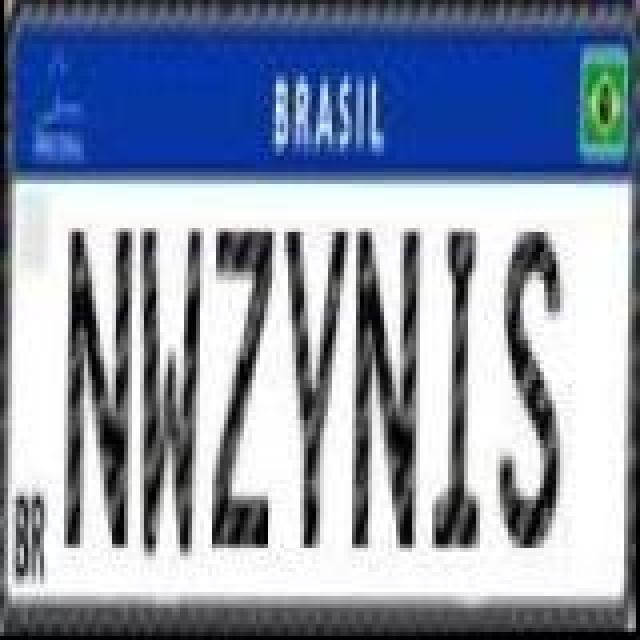I: (430, 226, 486, 550)
N: (62, 224, 134, 548), (352, 228, 420, 552)
S: (496, 222, 564, 558)
W: (132, 228, 200, 564)
Y: (278, 226, 350, 550)
Z: (210, 226, 274, 550)
